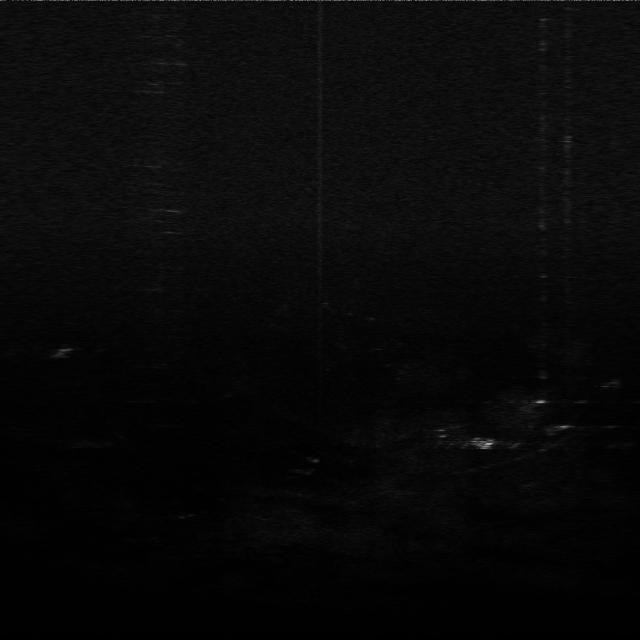rov: (470, 436, 496, 452)
